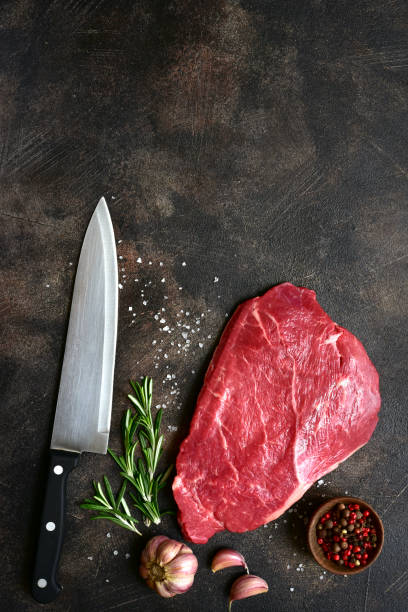knife: (24, 190, 121, 606)
